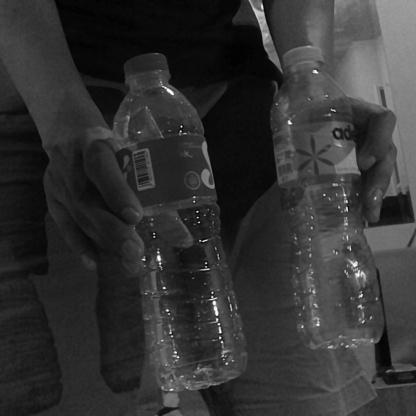plastic_bottles: (116, 52, 251, 392), (274, 43, 384, 345)
